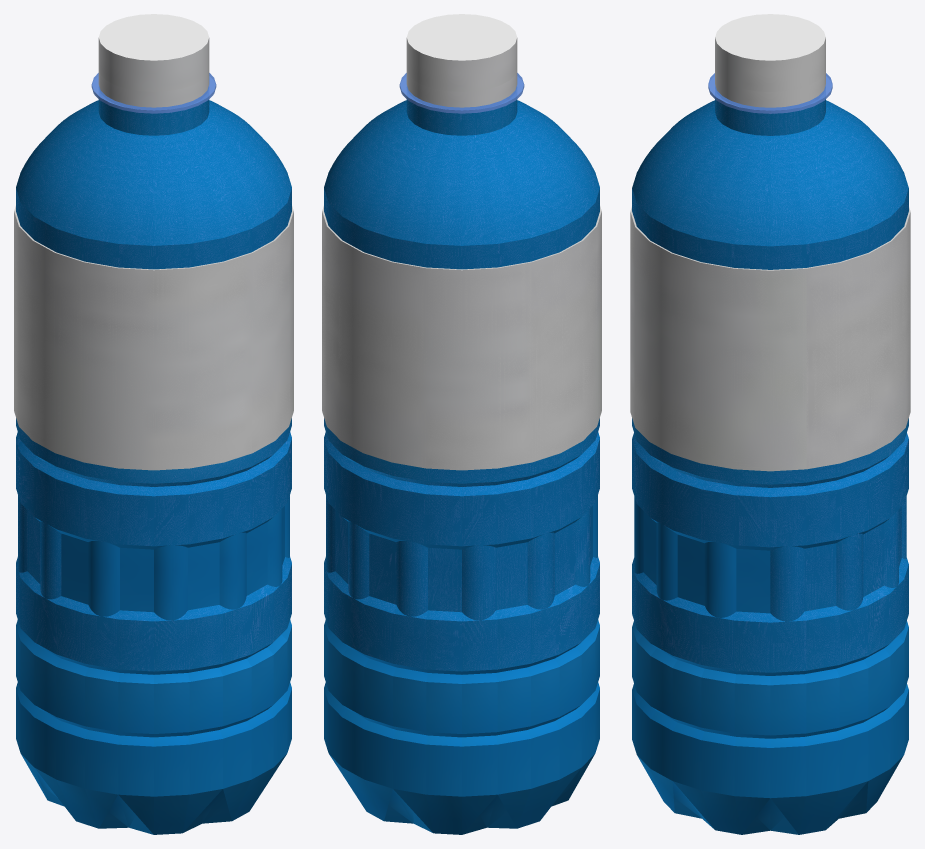
The model's file is water_bottle.dae.
The picture shows the model from 3 angles, left to right: view 1: azimuth 30°, elevation 25°; view 2: azimuth 150°, elevation 25°; view 3: azimuth 270°, elevation 25°; orthographic projection.
Visible parts, largest first — view 1: SketchUp (×10); view 2: SketchUp (×10); view 3: SketchUp (×10).
Boxes of the visible parts, x1,y1,x2,y2 form: SketchUp (×10): (14, 14, 293, 834); SketchUp (×10): (322, 14, 601, 834); SketchUp (×10): (630, 14, 910, 834).
Bounding box in the file's own units: 2.53 × 2.53 × 7.5.
Materials: 5 (2 with a texture image).
